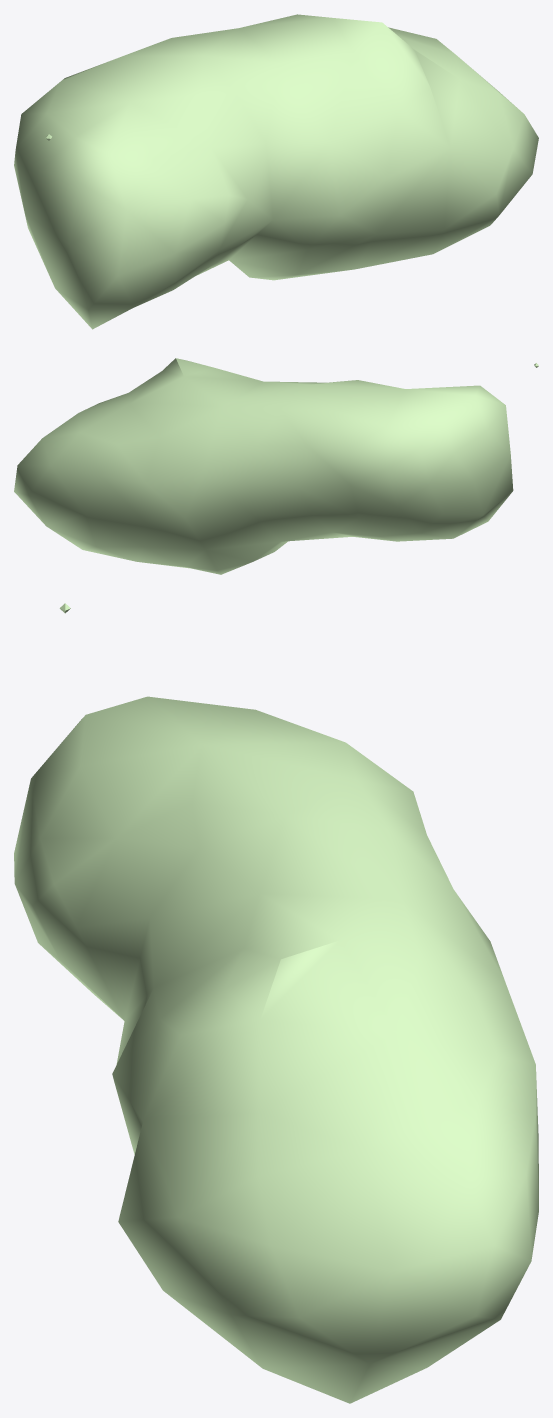
The model's file is spl-3031.glb.
The picture shows the model from 3 angles, top to bottom: view 1: azimuth 30°, elevation 25°; view 2: azimuth 150°, elevation 25°; view 3: azimuth 270°, elevation 25°; orthographic projection. The views are drawn at different scales.
Visible parts, largest first — view 1: spl-3031; view 2: spl-3031; view 3: spl-3031.
Part boxes in pixels (box(x1,y1,x2,y2)): spl-3031: box(14, 14, 538, 329); spl-3031: box(14, 358, 538, 574); spl-3031: box(14, 603, 538, 1403).
Size of the model in its own units: 9.52 by 4.63 by 5.06.
